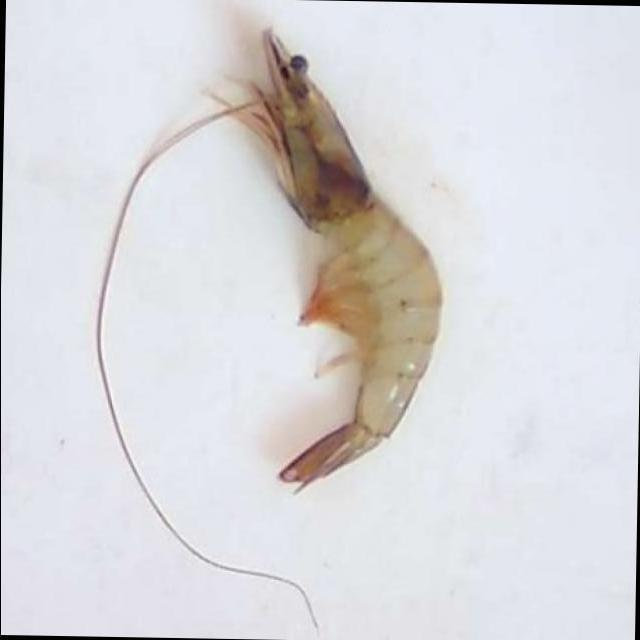shrimp: (238, 28, 442, 491)
